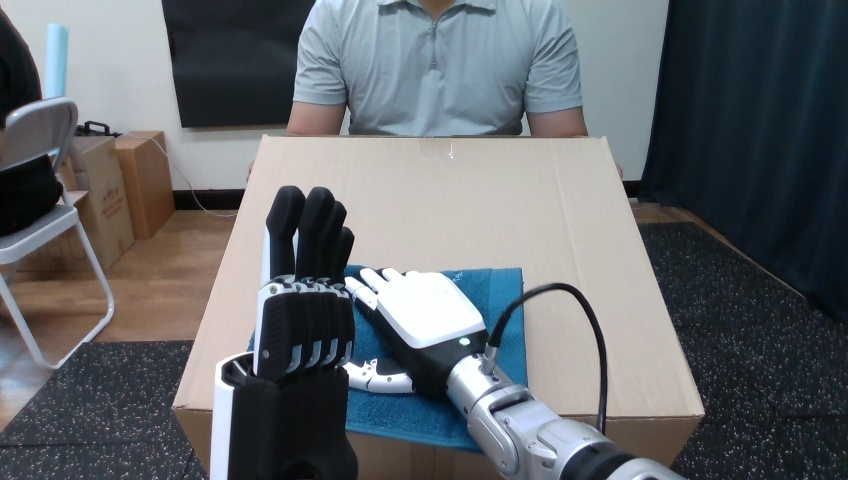left robot hand: (345, 268, 683, 479), (210, 186, 357, 478), (495, 289, 600, 428)
